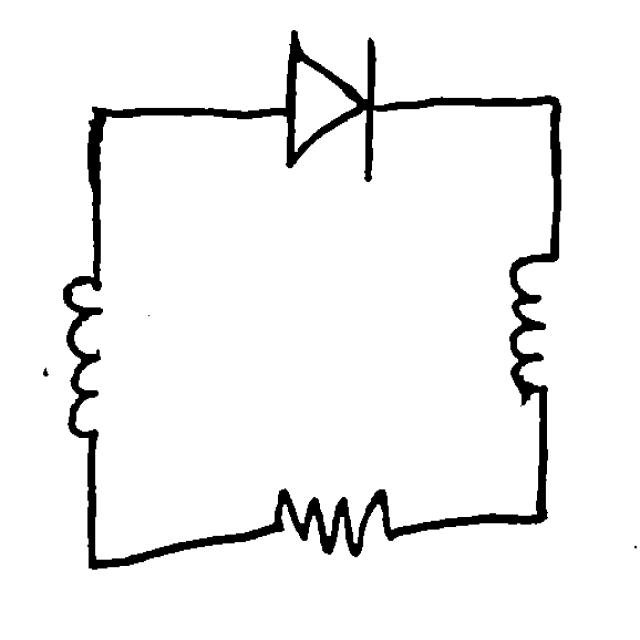diode: (270, 26, 395, 193)
inductor: (487, 227, 582, 410), (54, 255, 119, 460)
resistor: (252, 468, 408, 571)
